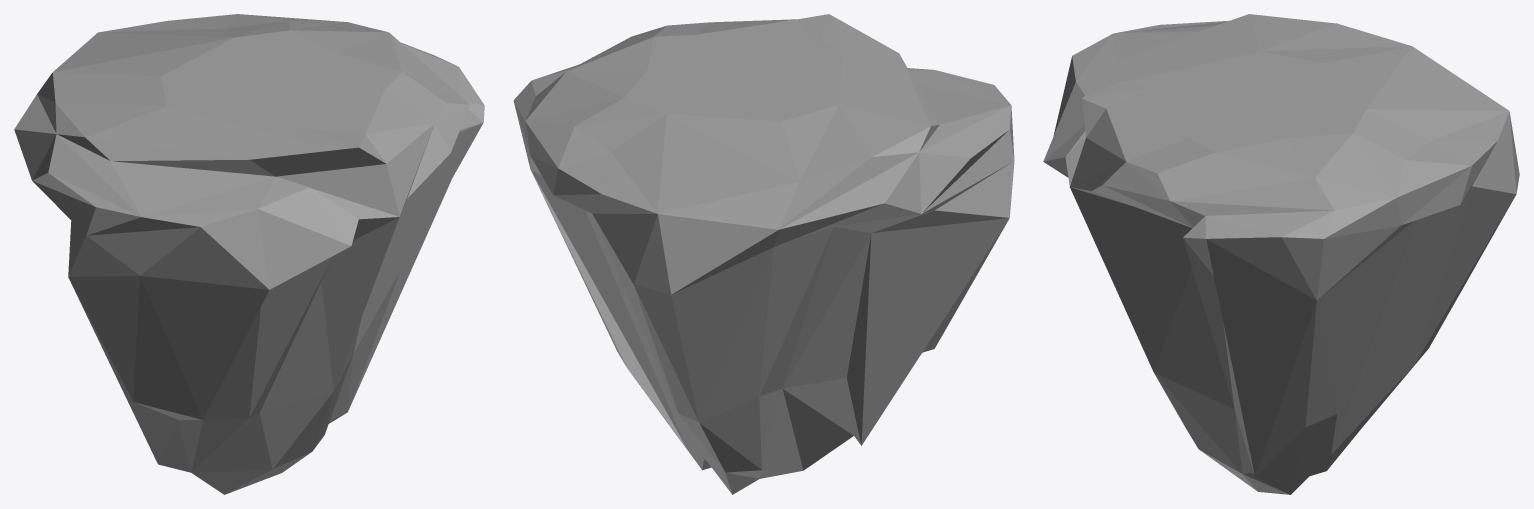
Rendered from SFV_Rock_Formation_009.fbx.
3 views of the same model, side by side, from view 1: azimuth 30°, elevation 25°; view 2: azimuth 150°, elevation 25°; view 3: azimuth 270°, elevation 25° (orthographic).
Parts seen in each view (by area): view 1: SFV_Rock_Formation_009; view 2: SFV_Rock_Formation_009; view 3: SFV_Rock_Formation_009.
Boxes of the visible parts, x1,y1,x2,y2 form: SFV_Rock_Formation_009: (14, 14, 484, 494); SFV_Rock_Formation_009: (513, 14, 1014, 494); SFV_Rock_Formation_009: (1043, 14, 1519, 494).
Bounding box in the file's own units: 293 × 252 × 280.
